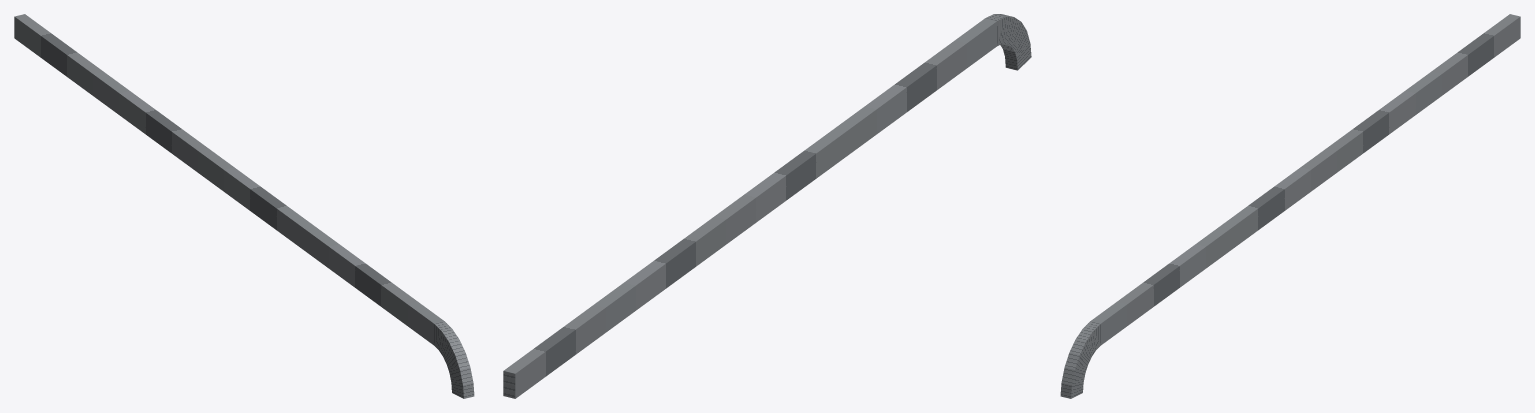
File: sectional_track_cw_6.obj
3 views of the same model, side by side, from view 1: azimuth 30°, elevation 25°; view 2: azimuth 150°, elevation 25°; view 3: azimuth 330°, elevation 25° (orthographic). The views are drawn at different scales.
Parts seen in each view (by area): view 1: track; view 2: track; view 3: track.
Boxes of the visible parts, box(x1,y1,x2,y2) form: track: box(14, 14, 474, 398); track: box(503, 14, 1031, 398); track: box(1060, 14, 1520, 398).
Bounding box in the file's own units: 0.0938 × 0.481 × 6.97.
